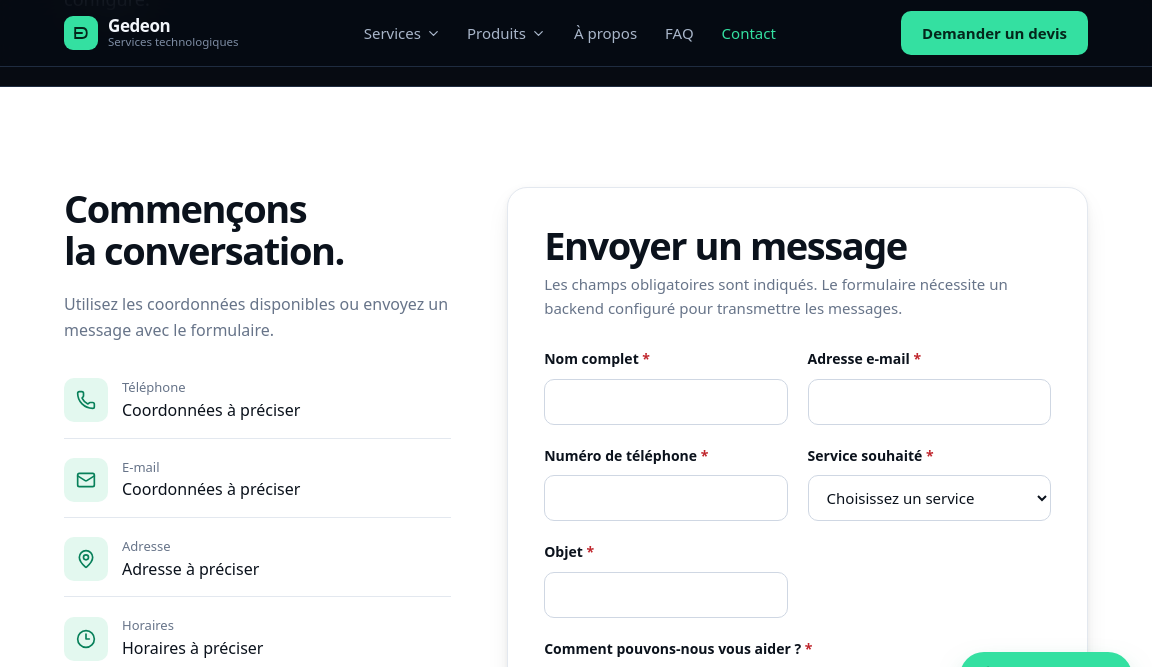
Scenario: catalogue and contact interactions › does not claim a contact message was delivered without a configured backend
(page scrolled)
In the field labelled "Nom complet *": (666, 402) [544,379,788,425], type "Camille Martin"
In the field labelled "Adresse e-mail *": (929, 402) [808,379,1051,425], type "camille@example.com"
In the field labelled "Numéro de téléphone *": (666, 498) [544,475,788,521], type "+33123456789"
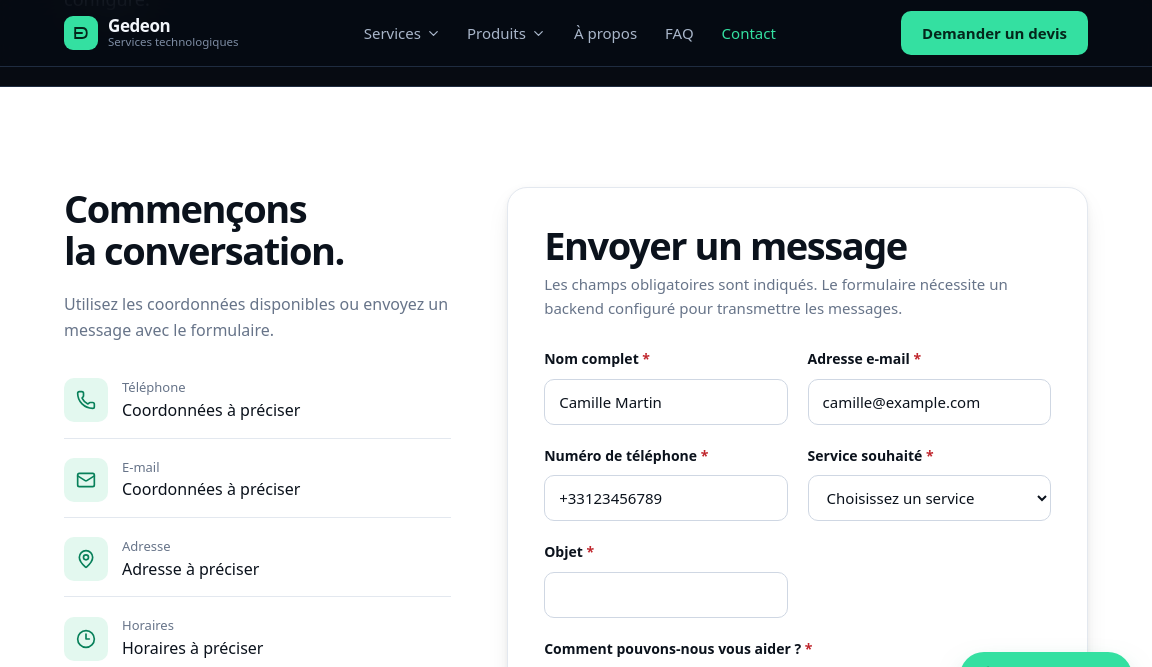
Select "Maintenance et réparation informatique" in the dropdown labelled "Service souhaité *": (929, 498) [808,475,1051,521]
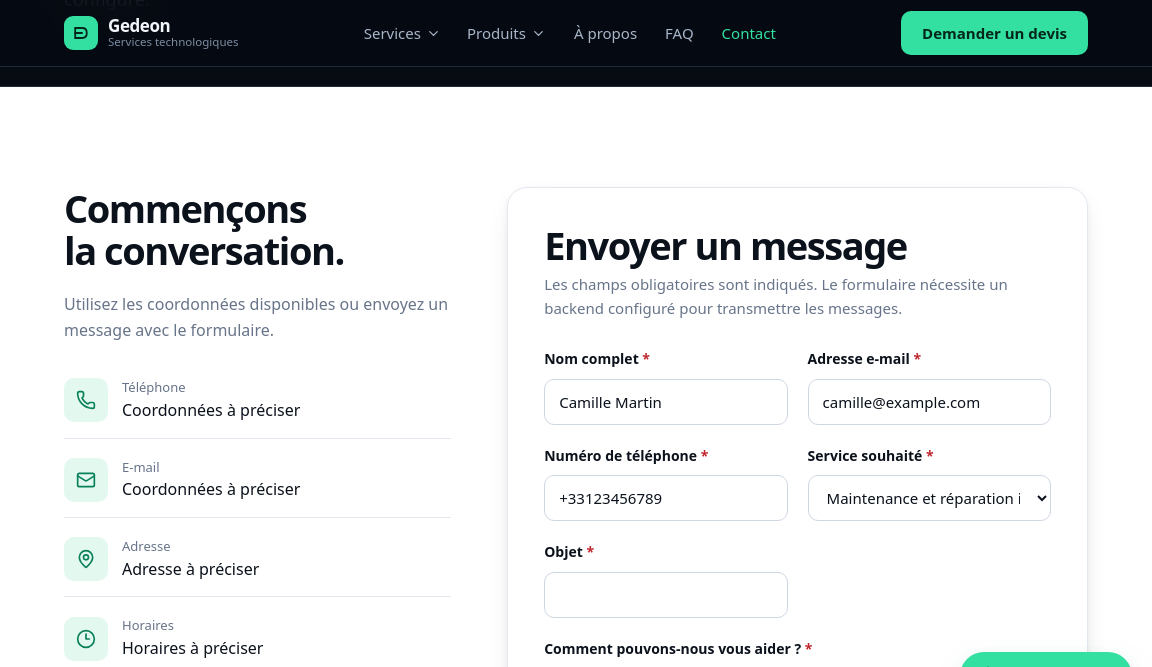
In the field labelled "Objet *": (666, 595) [544,572,788,618], type "Computer diagnostic"
(page scrolled)
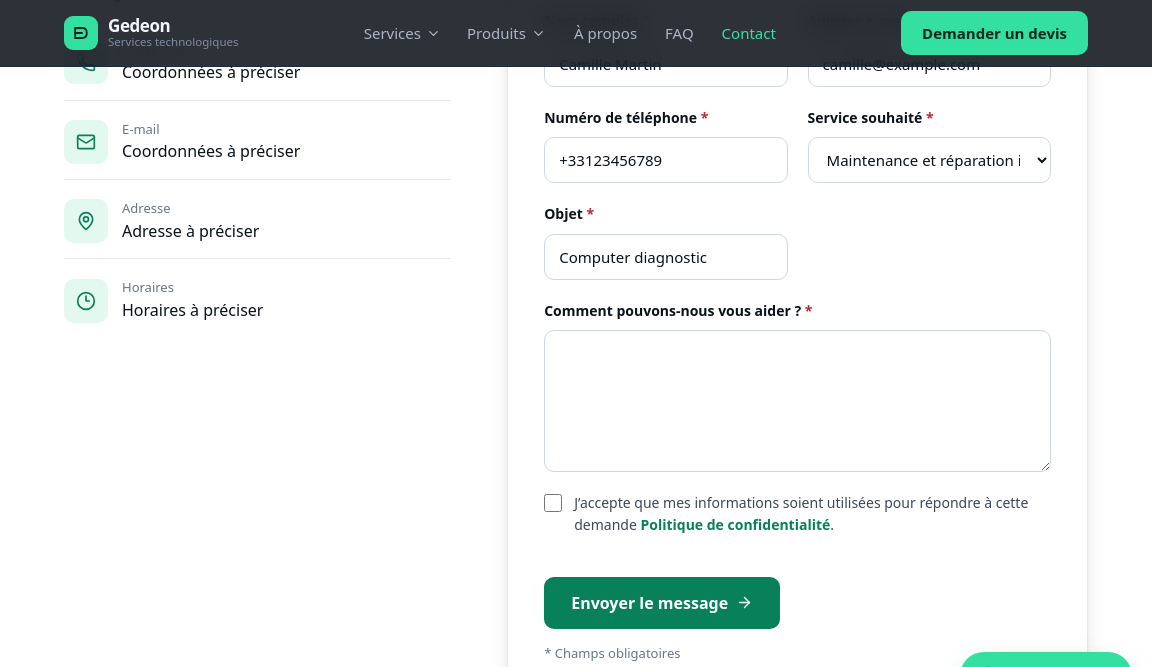
In the text box labelled "Comment pouvons-nous vous aider ? *": (798, 401) [544,330,1051,472], type "I would like to arrange a computer diagnostic appointment."
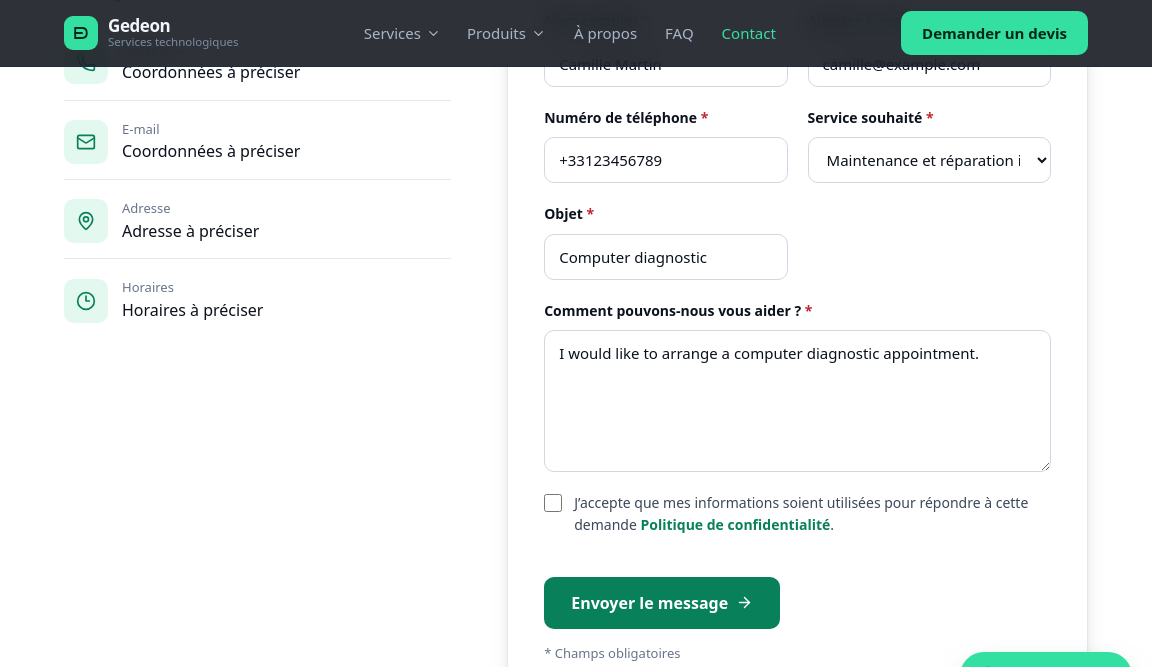
Click the checkbox: (553, 503) [544,494,562,512]
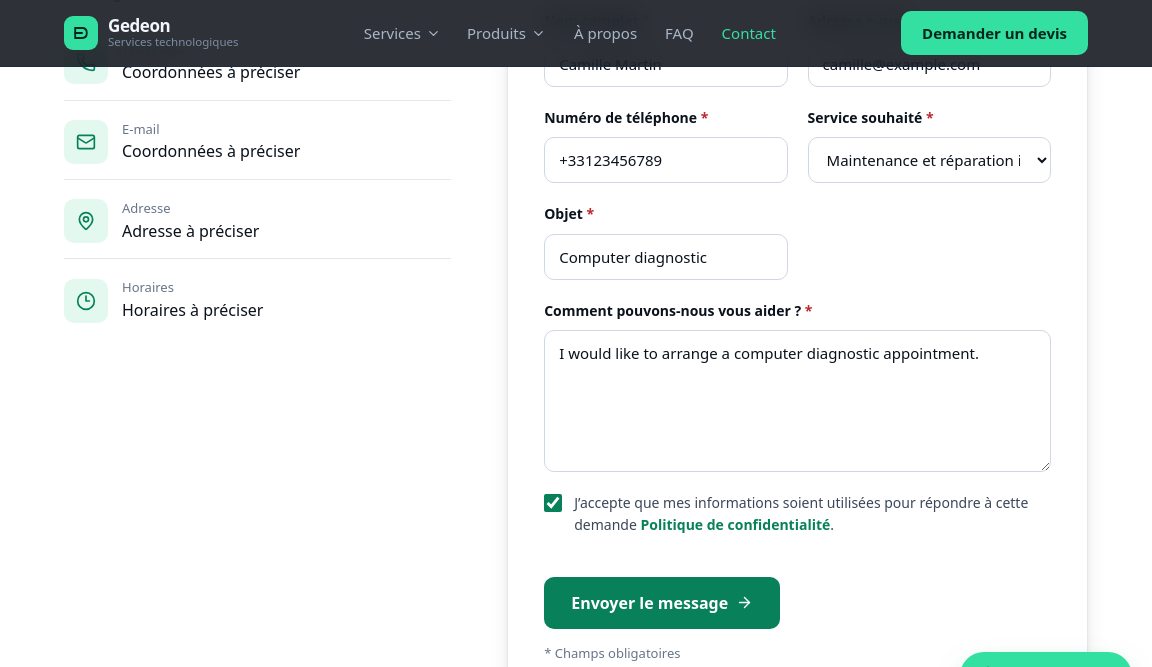
Click the button "Envoyer le message": (662, 603) [544,577,780,629]
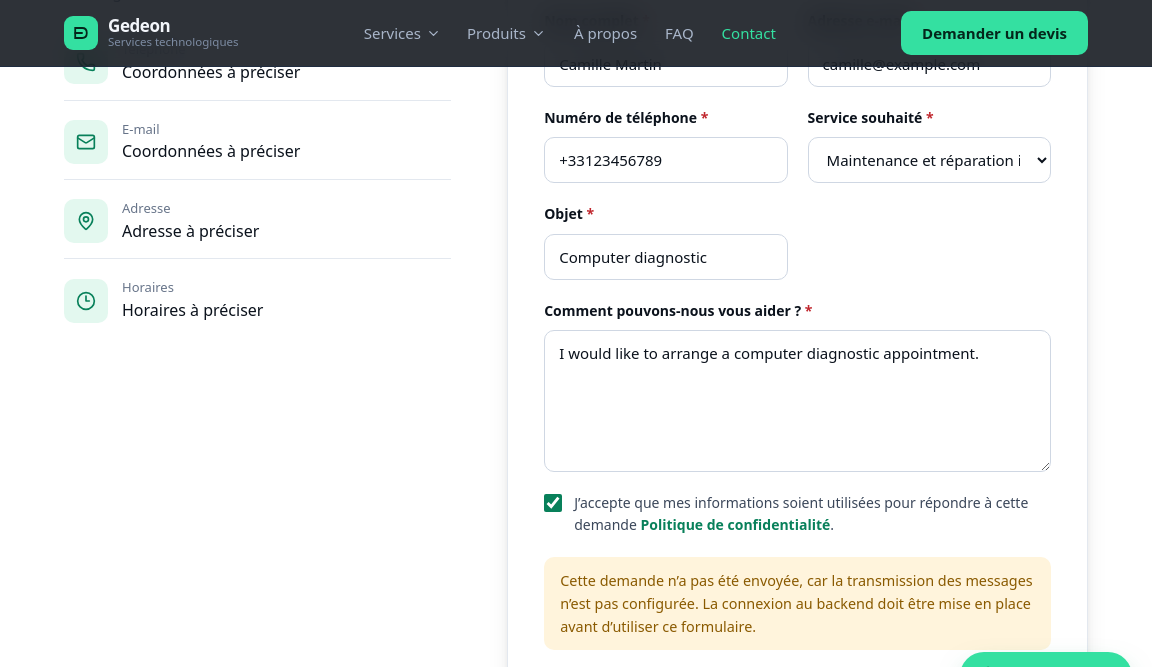
Expected: the text "Cette demande n’a pas été envoyée" is shown, [560,571,1033,636]
